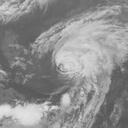cyclone: (50, 30, 99, 74)
